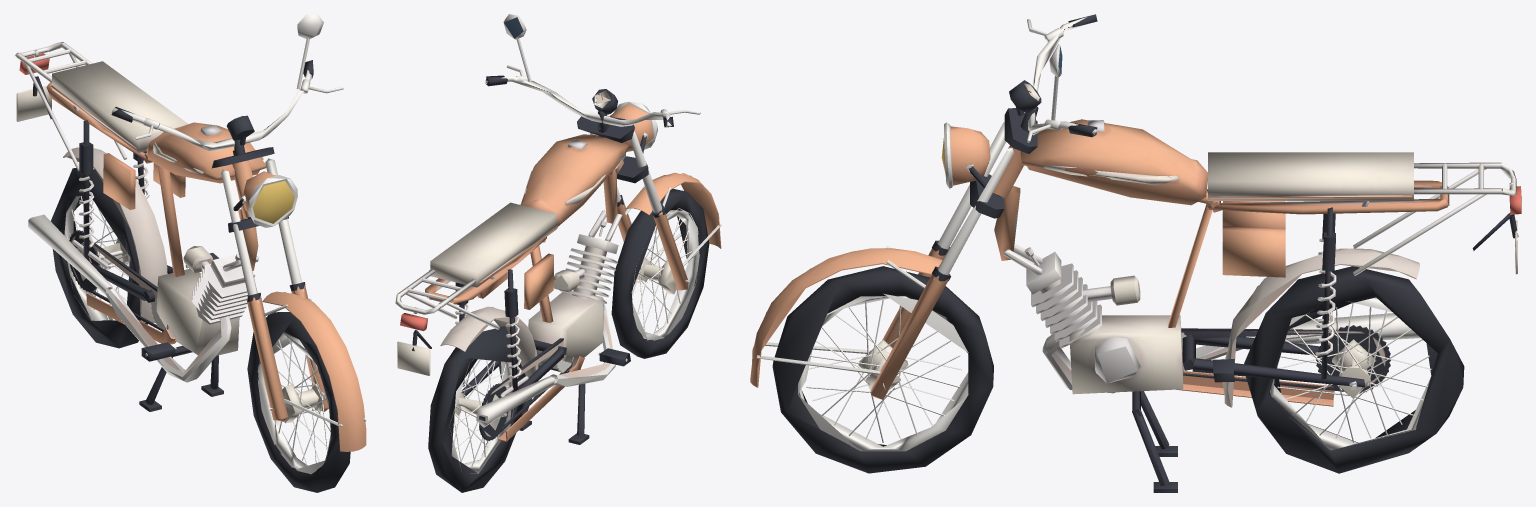
The model's file is n_moped.glb.
3 renders of one model, left to right at view 1: azimuth 30°, elevation 25°; view 2: azimuth 150°, elevation 25°; view 3: azimuth 270°, elevation 25°, orthographic. The views are drawn at different scales.
Visible parts, largest first — view 1: moped_body, moped_steering, moped_wheel_front, moped_wheel_rear, moped_crank; view 2: moped_body, moped_steering, moped_wheel_front, moped_wheel_rear, moped_crank; view 3: moped_body, moped_wheel_rear, moped_wheel_front, moped_steering.
Boxes of the visible parts, left/top/right/bottom form: moped_body: left=14, top=42, right=266, bottom=411; moped_steering: left=111, top=14, right=366, bottom=451; moped_wheel_front: left=247, top=312, right=350, bottom=492; moped_wheel_rear: left=51, top=168, right=147, bottom=348; moped_crank: left=141, top=253, right=218, bottom=361; moped_body: left=395, top=134, right=628, bottom=444; moped_steering: left=485, top=14, right=721, bottom=290; moped_wheel_front: left=611, top=188, right=709, bottom=358; moped_wheel_rear: left=428, top=326, right=525, bottom=492; moped_crank: left=556, top=348, right=630, bottom=372; moped_body: left=993, top=119, right=1521, bottom=492; moped_wheel_rear: left=1244, top=266, right=1464, bottom=473; moped_wheel_front: left=772, top=266, right=993, bottom=473; moped_steering: left=750, top=14, right=1097, bottom=399.
Bounding box in the file's own units: 0.7043 × 1.29 × 1.9.
Materials: 2 (1 with a texture image).
